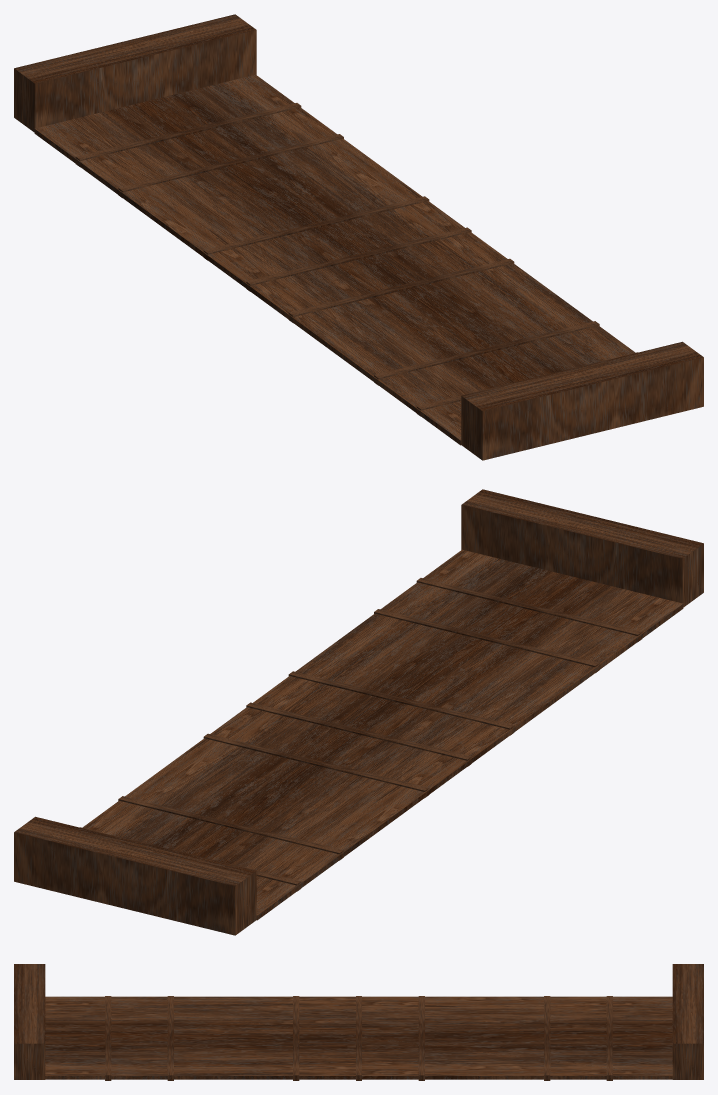
The model's file is Piste.fbx.
3 views of the same model, one above another, from view 1: azimuth 30°, elevation 25°; view 2: azimuth 150°, elevation 25°; view 3: azimuth 270°, elevation 25° (orthographic). The views are drawn at different scales.
Parts seen in each view (by area): view 1: Piste; view 2: Piste; view 3: Piste.
Boxes of the visible parts, x1,y1,x2,y2 form: Piste: [14, 14, 703, 460]; Piste: [14, 489, 703, 935]; Piste: [14, 964, 703, 1080].
Size of the model in its own units: 1204 by 262 by 4400.
1 material, 1 textured.
